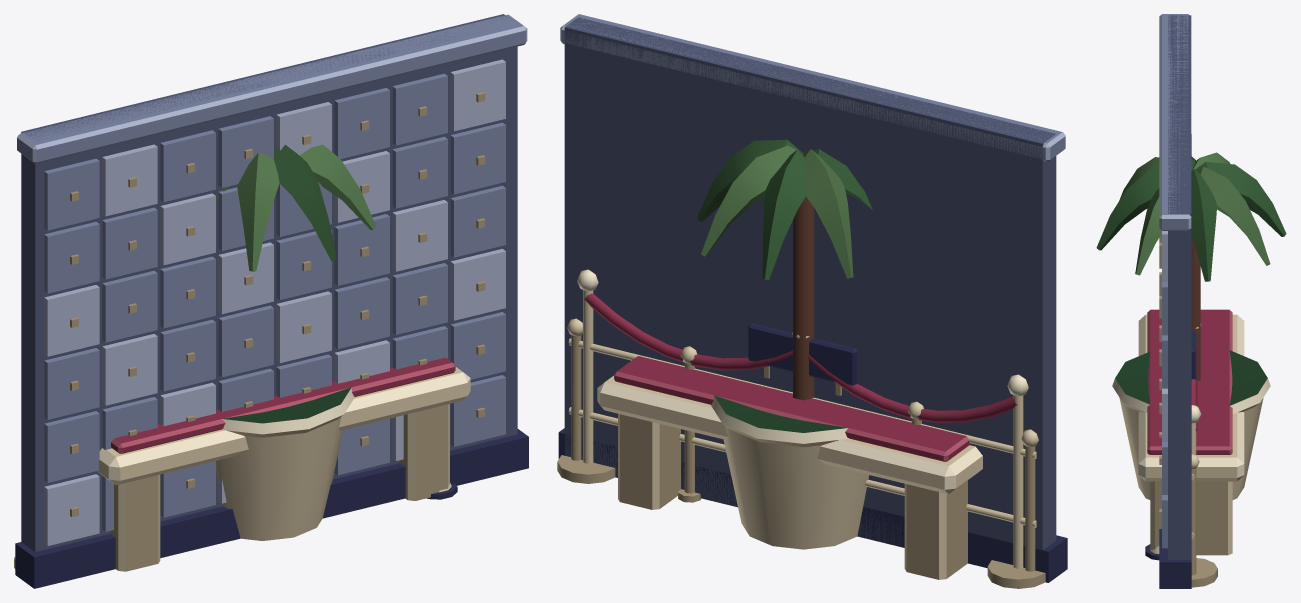
File: Decor_Bank.fbx
3 views of the same model, side by side, from view 1: azimuth 30°, elevation 25°; view 2: azimuth 150°, elevation 25°; view 3: azimuth 270°, elevation 25° (orthographic). The views are drawn at different scales.
Parts seen in each view (by area): view 1: Decor_DepositWall_8, Decor_Palm, Decor_Bench_6; view 2: Decor_DepositWall_8, Decor_Palm, Decor_Bench_6, Decor_QueueRope_8, Decor_BrassRail_8; view 3: Decor_DepositWall_8, Decor_Palm, Decor_Bench_6, Decor_QueueRope_8, Decor_BrassRail_8.
Boxes of the visible parts, x1,y1,x2,y2 form: Decor_DepositWall_8: (15, 14, 528, 588); Decor_Palm: (216, 144, 376, 540); Decor_Bench_6: (97, 357, 470, 571); Decor_DepositWall_8: (558, 14, 1067, 582); Decor_Palm: (697, 140, 872, 549); Decor_Bench_6: (597, 356, 982, 579); Decor_QueueRope_8: (557, 269, 1045, 588); Decor_BrassRail_8: (567, 318, 1038, 571); Decor_DepositWall_8: (1159, 14, 1191, 588); Decor_Palm: (1096, 152, 1286, 499); Decor_Bench_6: (1138, 309, 1244, 555); Decor_QueueRope_8: (1191, 323, 1217, 587); Decor_BrassRail_8: (1145, 331, 1199, 575).
Size of the model in its own units: 8.2 by 7.03 by 3.24.
Materials: 1 (1 with a texture image).
